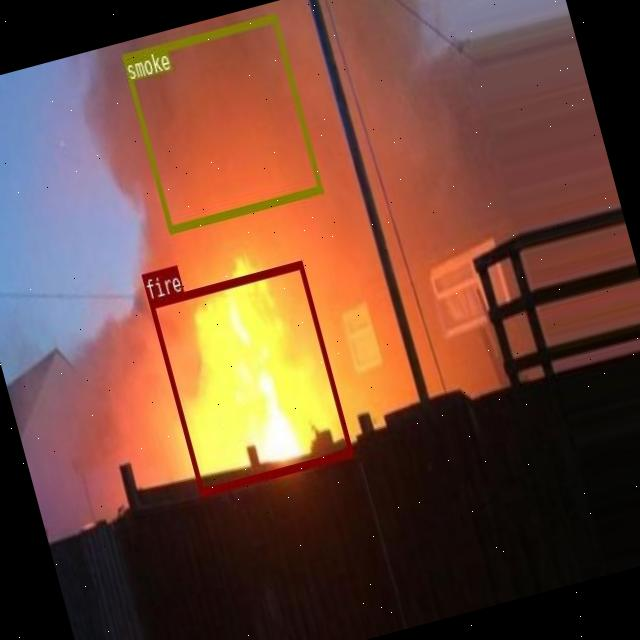fire: (147, 259, 352, 494)
smoke: (120, 12, 322, 232)
